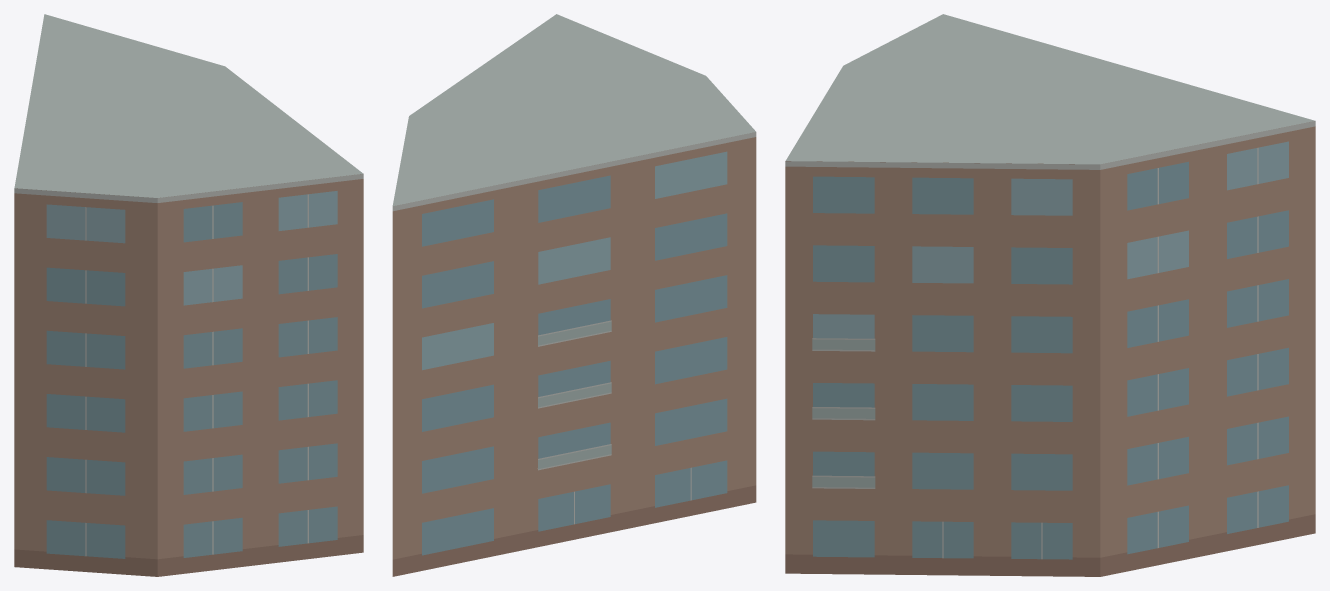
The model's file is survey-upis-32509116.glb.
3 renders of one model, left to right at view 1: azimuth 30°, elevation 25°; view 2: azimuth 150°, elevation 25°; view 3: azimuth 270°, elevation 25°, orthographic. The views are drawn at different scales.
Parts seen in each view (by area): view 1: survey-upis-32509116.tmp; view 2: survey-upis-32509116.tmp; view 3: survey-upis-32509116.tmp.
Boxes of the visible parts, x1,y1,x2,y2 form: survey-upis-32509116.tmp: (14,14,363,576); survey-upis-32509116.tmp: (392,14,756,576); survey-upis-32509116.tmp: (785,14,1315,576).
Size of the model in its own units: 14.21 by 18.16 by 21.16.
